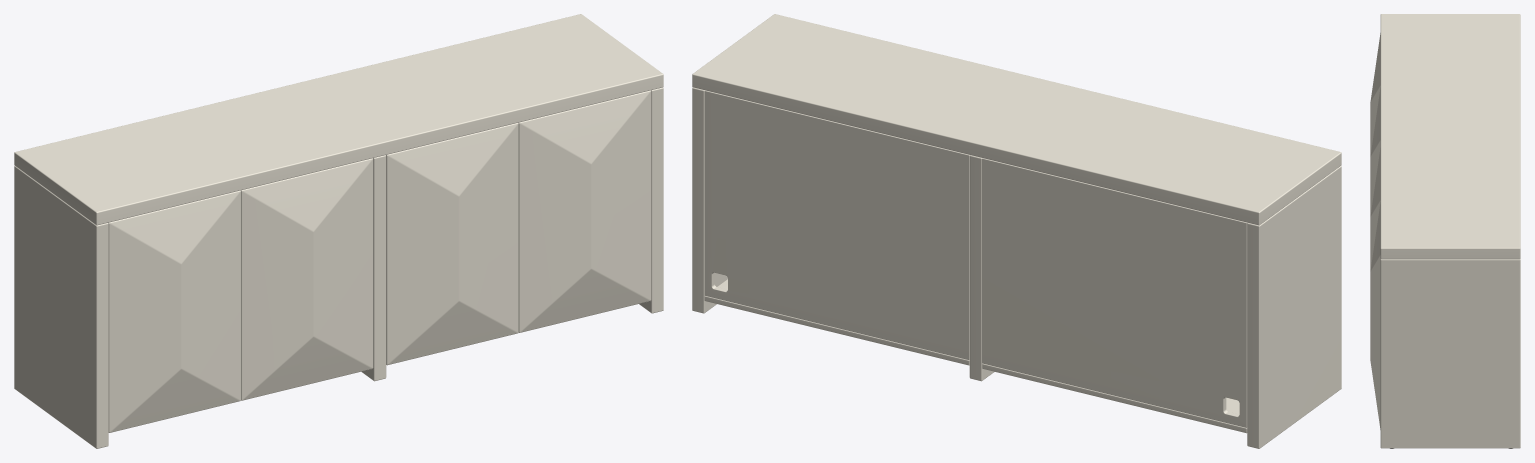
The picture shows the model from 3 angles, left to right: view 1: azimuth 30°, elevation 25°; view 2: azimuth 150°, elevation 25°; view 3: azimuth 270°, elevation 25°; orthographic projection. The views are drawn at different scales.
Parts seen in each view (by area): view 1: id_feature-DXL0nd_variant-J6DMxX; view 2: id_feature-DXL0nd_variant-J6DMxX; view 3: id_feature-DXL0nd_variant-J6DMxX.
Boxes of the visible parts, x1=… form: id_feature-DXL0nd_variant-J6DMxX: x1=14, y1=14, x2=663, y2=448; id_feature-DXL0nd_variant-J6DMxX: x1=692, y1=14, x2=1341, y2=448; id_feature-DXL0nd_variant-J6DMxX: x1=1370, y1=14, x2=1520, y2=448.
Bounding box in the file's own units: 1.83 × 0.7366 × 0.4951.
1 material, 1 textured.
